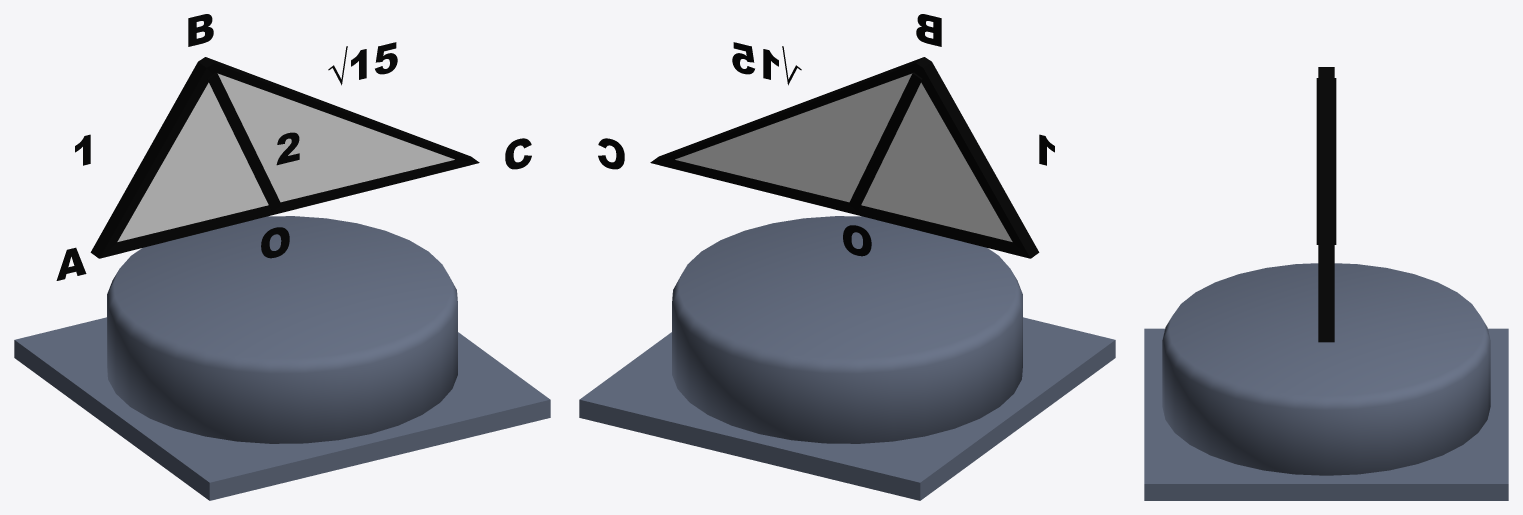
The picture shows the model from 3 angles, left to right: view 1: azimuth 30°, elevation 25°; view 2: azimuth 150°, elevation 25°; view 3: azimuth 270°, elevation 25°; orthographic projection. The views are drawn at different scales.
Visible parts, largest first — view 1: Cylinder, Cube.001, Cube, Cube.002, Text.003, Text.002, Text.006; view 2: Cylinder, Cube.001, Cube, Cube.002, Text.003, Text.002, Text.006; view 3: Cylinder, Cube, Cube.001, Cube.002.
Part boxes in pixels (left/top/right/bottom): Cylinder: left=107, top=216, right=457, bottom=443; Cube.001: left=90, top=57, right=479, bottom=258; Cube: left=14, top=317, right=550, bottom=500; Cube.002: left=207, top=72, right=281, bottom=211; Text.003: left=328, top=42, right=397, bottom=85; Text.002: left=188, top=14, right=213, bottom=46; Text.006: left=261, top=227, right=289, bottom=258; Cylinder: left=672, top=216, right=1022, bottom=443; Cube.001: left=650, top=57, right=1039, bottom=258; Cube: left=579, top=317, right=1115, bottom=500; Cube.002: left=848, top=72, right=922, bottom=211; Text.003: left=732, top=42, right=801, bottom=85; Text.002: left=916, top=14, right=941, bottom=46; Text.006: left=843, top=225, right=871, bottom=256; Cylinder: left=1162, top=263, right=1490, bottom=475; Cube: left=1144, top=328, right=1508, bottom=500; Cube.001: left=1318, top=67, right=1334, bottom=342; Cube.002: left=1316, top=78, right=1336, bottom=244.
Size of the model in its own units: 12.77 by 10.08 by 9.09.
